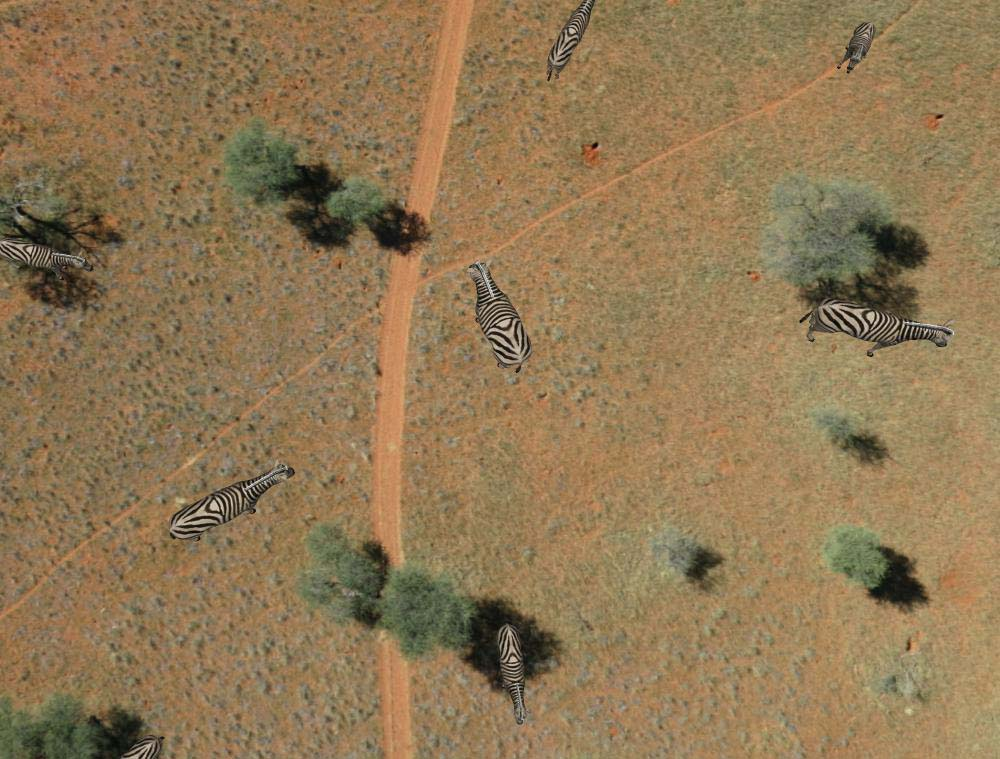zebra: (799, 292, 952, 364), (166, 464, 298, 542), (463, 258, 531, 380), (486, 627, 540, 724), (1, 234, 90, 289), (545, 1, 599, 83), (842, 21, 875, 77)
